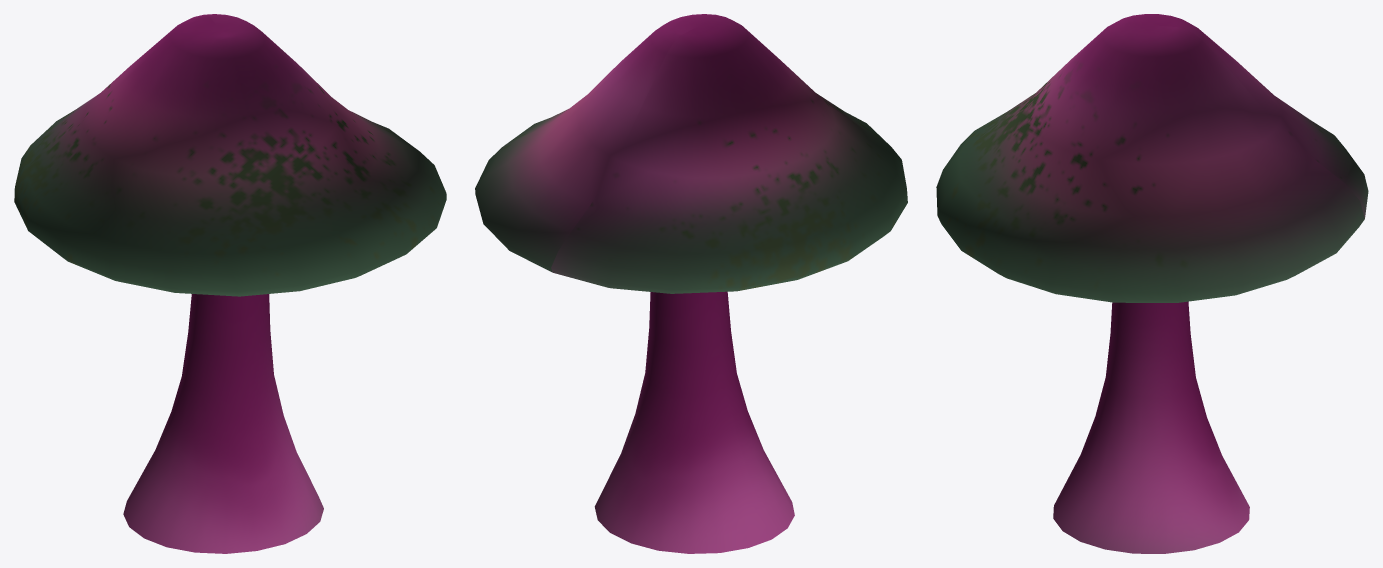
Rendered from M_Mashroom02.fbx.
3 renders of one model, left to right at view 1: azimuth 30°, elevation 25°; view 2: azimuth 150°, elevation 25°; view 3: azimuth 270°, elevation 25°, orthographic.
Visible parts, largest first — view 1: Mash02; view 2: Mash02; view 3: Mash02.
Part boxes in pixels (x1,y1,x2,y2): Mash02: (14,14,446,553); Mash02: (475,14,907,553); Mash02: (936,14,1368,553).
Size of the model in its own units: 180 by 226 by 182.
